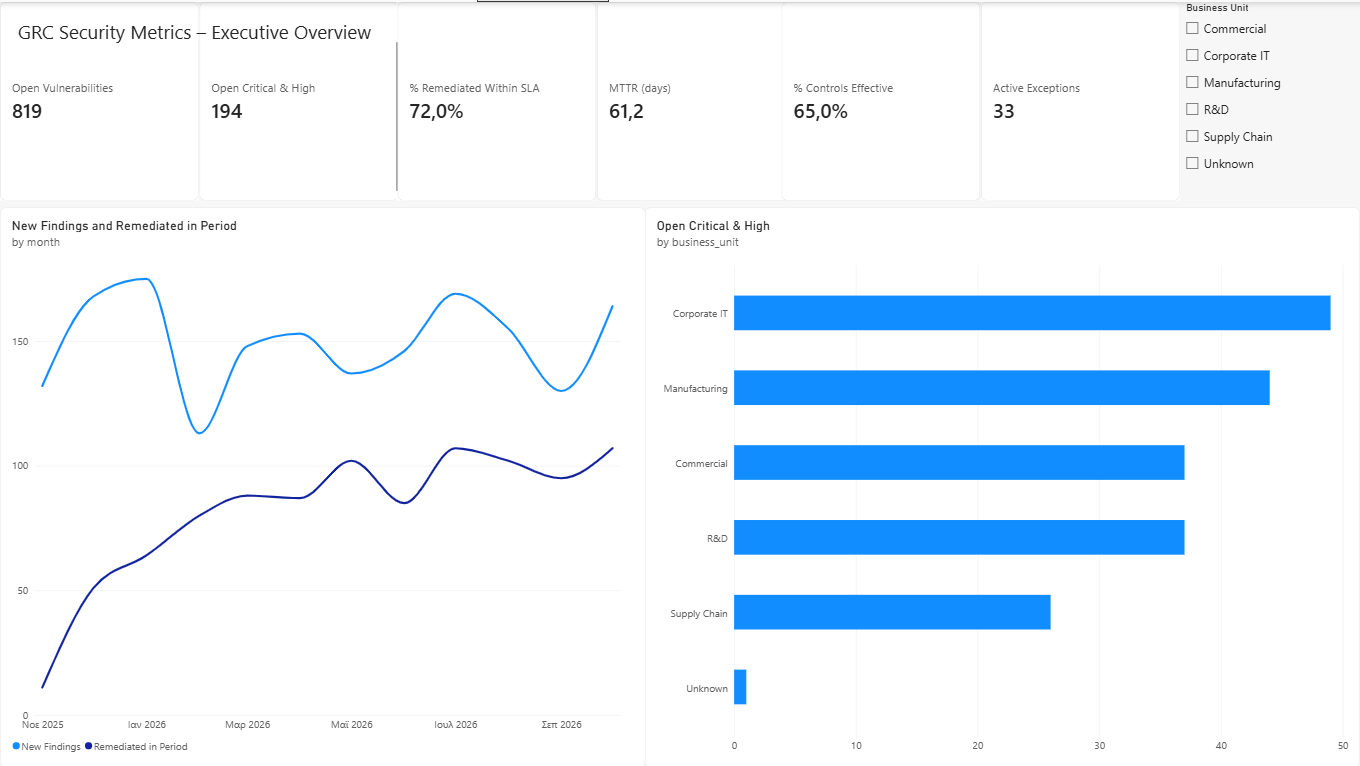

The page's visual inventory and layout, read from the dashboard file:
{"tool":"powerbi","page":{"name":"Executive Overview","canvas":[1920,1080],"ordinal":0},"visuals":[{"type":"cardVisual","fields":{"Data":["_Measures.Open Critical & High"]},"box":[280.6,0,280,280],"z":0},{"type":"cardVisual","box":[0,0,280,280],"z":1000},{"type":"cardVisual","fields":{"Data":["_Measures.Open Vulnerabilities"]},"box":[0,0,280,280],"z":2000},{"type":"cardVisual","box":[558.4,0,280,280],"z":3000},{"type":"cardVisual","fields":{"Data":["_Measures.% Remediated Within SLA"]},"box":[561.3,0,280,280],"z":4000},{"type":"cardVisual","fields":{"Data":["_Measures.MTTR (days)"]},"box":[841.9,0,280,280],"z":5000},{"type":"cardVisual","fields":{"Data":["_Measures.% Controls Effective"]},"box":[1102.7,0,280,280],"z":6000},{"type":"cardVisual","box":[1383.3,0,280,280],"z":7000},{"type":"cardVisual","fields":{"Data":["_Measures.Active Exceptions"]},"box":[1383.3,0,280.6,280.6],"z":8000},{"type":"slicer","fields":{"Values":["business_units.business_unit"]},"box":[1663.9,0,255.1,280.6],"z":9000},{"type":"lineChart","fields":{"Category":["date_table.month"],"Y":["_Measures.New Findings","_Measures.Remediated in Period"]},"box":[0,289.1,909.9,790.9],"z":10000},{"type":"clusteredBarChart","fields":{"Category":["business_units.business_unit"],"Y":["_Measures.Open Critical & High"]},"box":[909.9,289.1,1009.1,790.9],"z":11000},{"type":"textbox","box":[25.5,22.7,674.7,51],"z":12000}]}

Visuals, with their boxes in screenshot pixels (x1, y1, x2, y2), scaled from the page's 1920x1080 canvas onto the 1360x766 screenshot:
cardVisual - _Measures.Open Critical & High: 199:0:397:199
cardVisual: 0:0:198:199
cardVisual - _Measures.Open Vulnerabilities: 0:0:198:199
cardVisual: 396:0:594:199
cardVisual - _Measures.% Remediated Within SLA: 398:0:596:199
cardVisual - _Measures.MTTR (days): 596:0:795:199
cardVisual - _Measures.% Controls Effective: 781:0:979:199
cardVisual: 980:0:1178:199
cardVisual - _Measures.Active Exceptions: 980:0:1179:199
slicer - business_units.business_unit: 1179:0:1359:199
lineChart - date_table.month x _Measures.New Findings: 0:205:645:765
clusteredBarChart - business_units.business_unit x _Measures.Open Critical & High: 645:205:1359:765
textbox: 18:16:496:52
